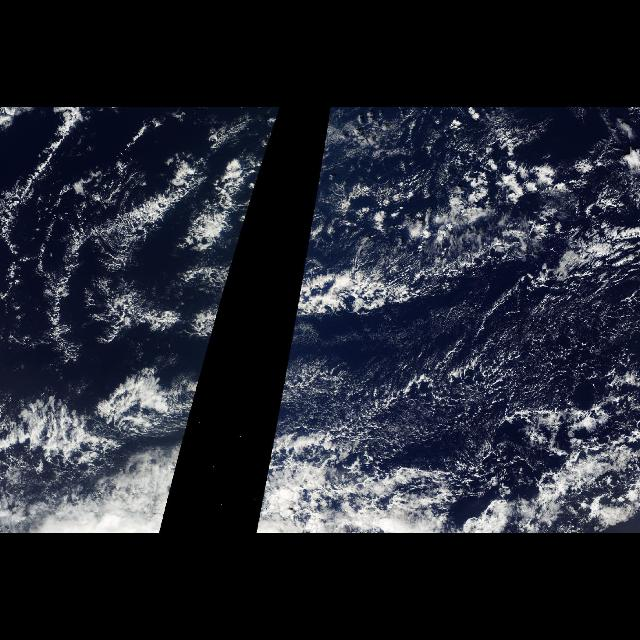Fish: (1, 137, 252, 356), (288, 266, 414, 348)
Gravel: (304, 144, 638, 468)
Sugar: (302, 286, 636, 454)
